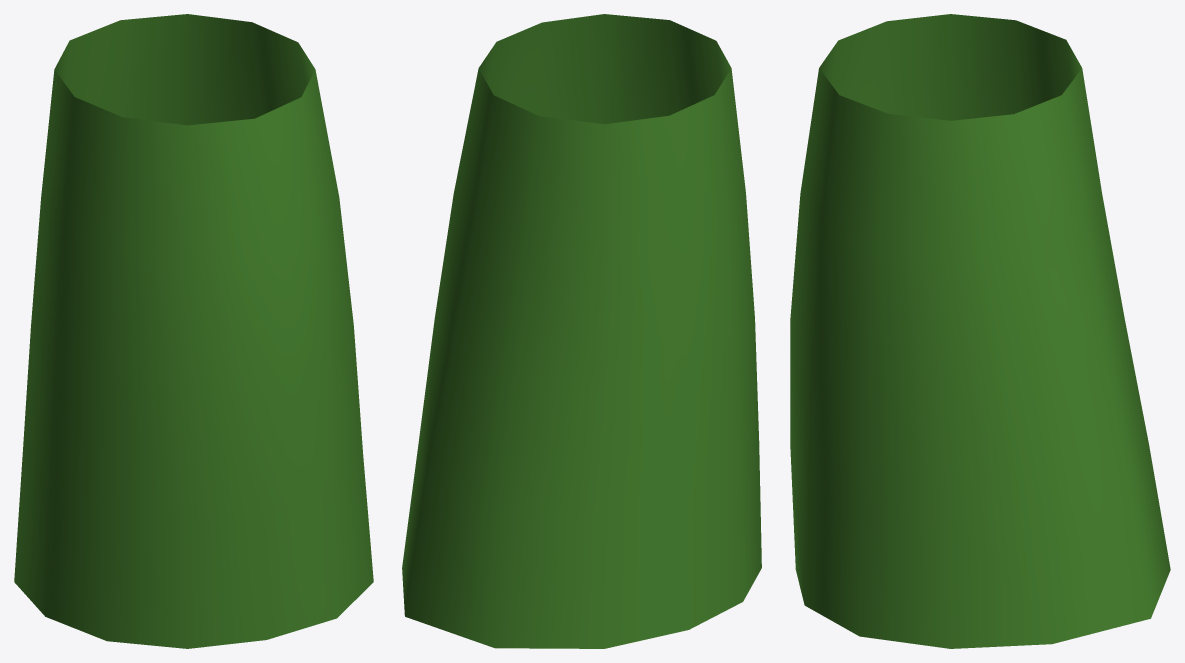
File: jungle_armor_cuisse.L.glb
The picture shows the model from 3 angles, left to right: view 1: azimuth 30°, elevation 25°; view 2: azimuth 150°, elevation 25°; view 3: azimuth 270°, elevation 25°; orthographic projection. The views are drawn at different scales.
Visible parts, largest first — view 1: jungle_armor_cuisse.L; view 2: jungle_armor_cuisse.L; view 3: jungle_armor_cuisse.L.
Part boxes in pixels (<box>): jungle_armor_cuisse.L: <box>14,14,373,648</box>; jungle_armor_cuisse.L: <box>402,14,761,648</box>; jungle_armor_cuisse.L: <box>790,14,1170,648</box>.
Bounding box in the file's own units: 0.2326 × 0.37 × 0.2542.
